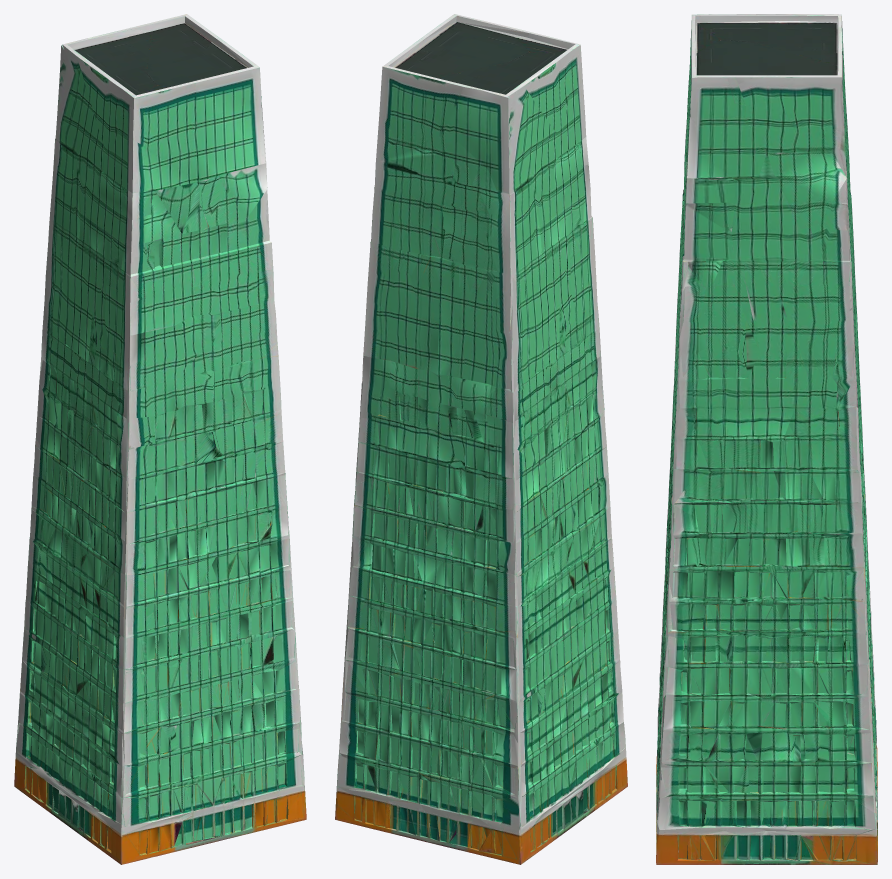
File: skyscraper-prime-tower.glb
3 renders of one model, left to right at view 1: azimuth 30°, elevation 25°; view 2: azimuth 150°, elevation 25°; view 3: azimuth 270°, elevation 25°, orthographic. The views are drawn at different scales.
Bounding box in the file's own units: 0.4937 × 1.9 × 0.4944.
1 material, 1 textured.
